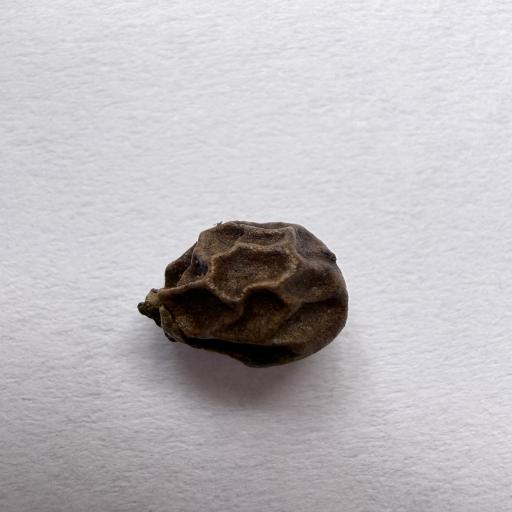Black_pepper: (124, 200, 364, 368)
